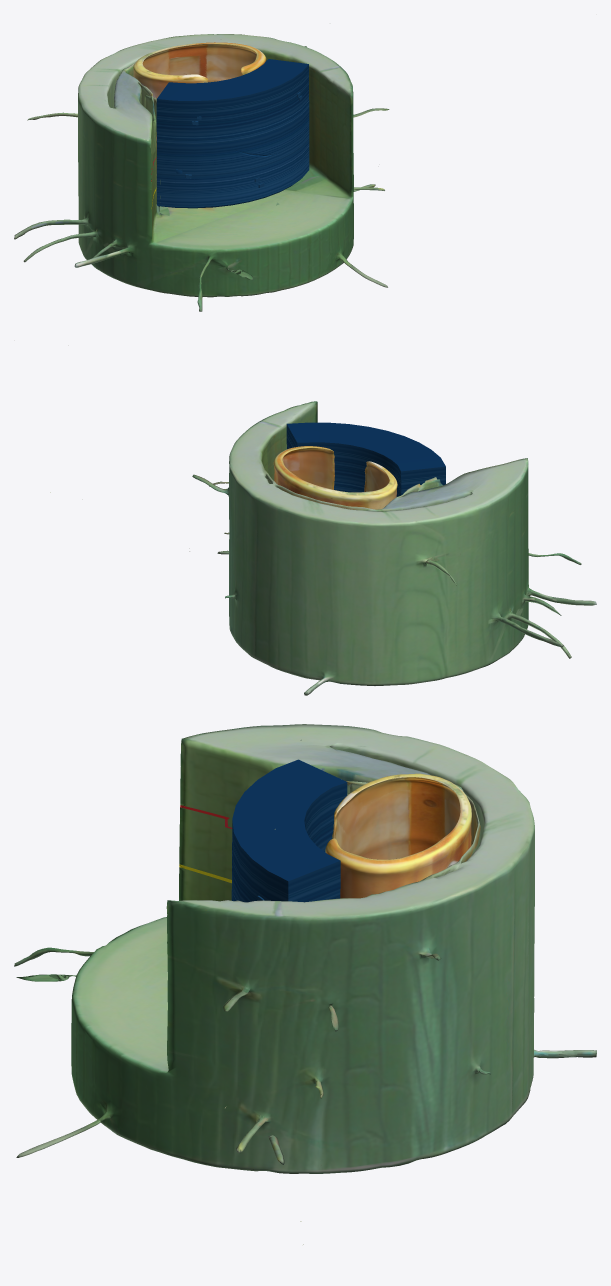
The picture shows the model from 3 angles, top to bottom: view 1: azimuth 30°, elevation 25°; view 2: azimuth 150°, elevation 25°; view 3: azimuth 270°, elevation 25°; orthographic projection. The views are drawn at different scales.
Visible parts, largest first — view 1: than, dai_caspary, mach_go, long_hut; view 2: than, dai_caspary, mach_go, long_hut; view 3: than, mach_go, dai_caspary, long_hut.
Part boxes in pixels (x1,y1,x2,y2): than: [30, 34, 386, 311]; dai_caspary: [156, 59, 309, 208]; mach_go: [133, 42, 266, 179]; long_hut: [14, 46, 389, 311]; than: [209, 401, 530, 685]; dai_caspary: [286, 422, 445, 496]; mach_go: [50, 446, 397, 551]; long_hut: [192, 474, 596, 695]; than: [70, 724, 596, 1173]; mach_go: [225, 773, 471, 1244]; dai_caspary: [231, 759, 347, 902]; long_hut: [14, 947, 596, 1164].
Size of the model in its own units: 3.22 by 1.17 by 1.77.
Materials: 8 (3 with a texture image).
